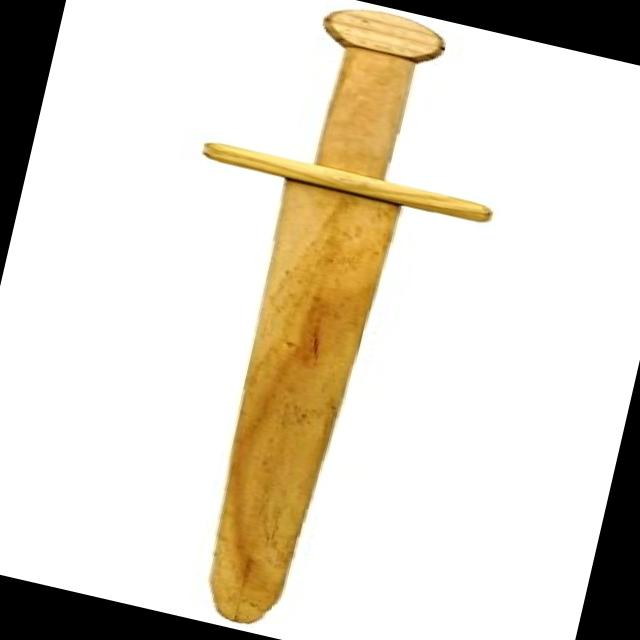Weapon: (101, 0, 542, 640)
